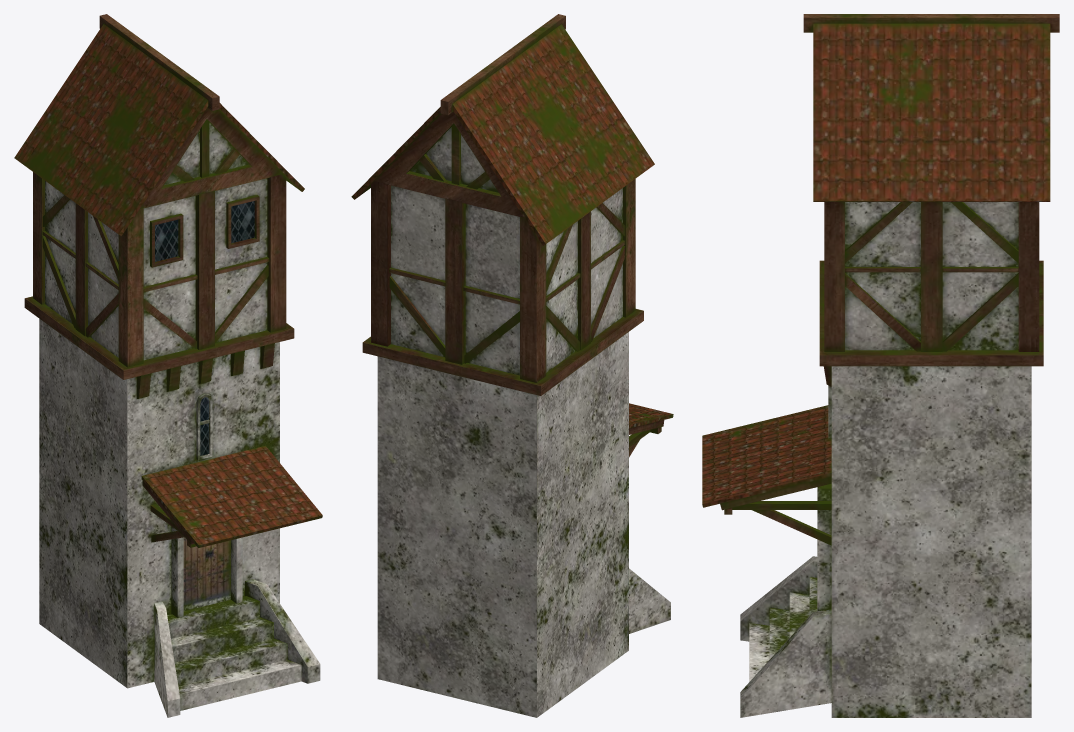
File: house-1.glb
The picture shows the model from 3 angles, left to right: view 1: azimuth 30°, elevation 25°; view 2: azimuth 150°, elevation 25°; view 3: azimuth 270°, elevation 25°; orthographic projection. The views are drawn at different scales.
Parts seen in each view (by area): view 1: House1_House1_M_0; view 2: House1_House1_M_0; view 3: House1_House1_M_0.
Boxes of the visible parts, left/top/right/bottom form: House1_House1_M_0: left=14, top=14, right=322, bottom=717; House1_House1_M_0: left=351, top=14, right=673, bottom=717; House1_House1_M_0: left=702, top=14, right=1059, bottom=717.
Bounding box in the file's own units: 3.05 × 9.1 × 4.47.
Materials: 1 (1 with a texture image).
